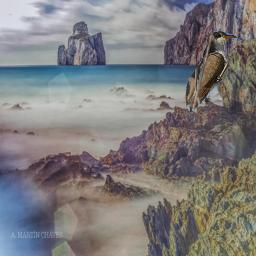Cuckoo: (185, 31, 250, 112)
